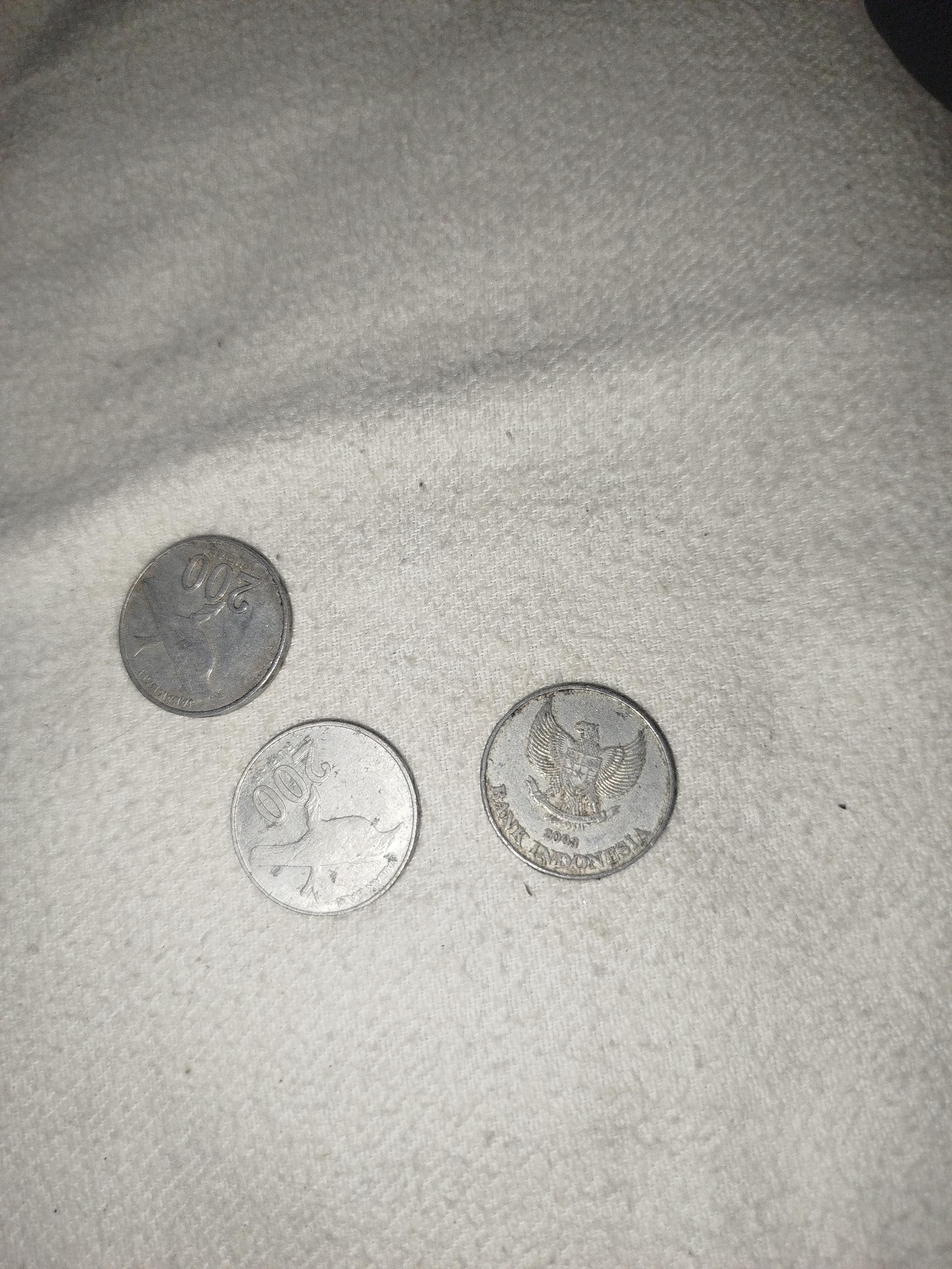coin_200_e2003: (481, 682, 680, 883), (227, 718, 423, 918), (117, 531, 294, 719)
